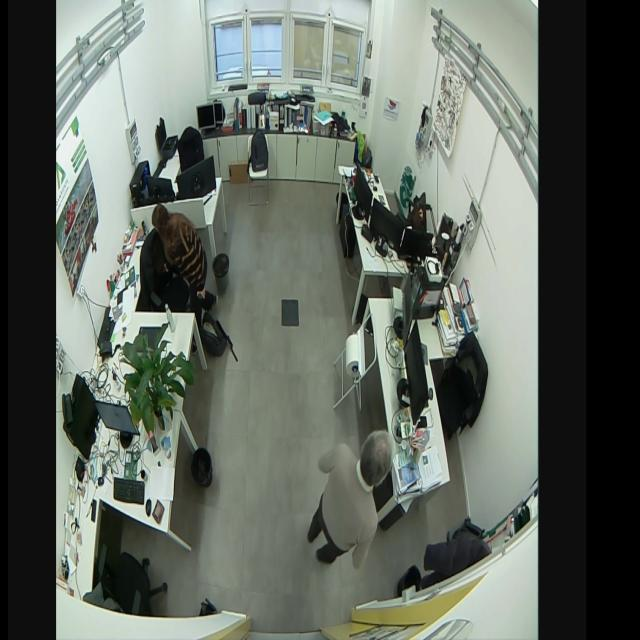Persona: (306, 426, 400, 570), (152, 199, 210, 311)
